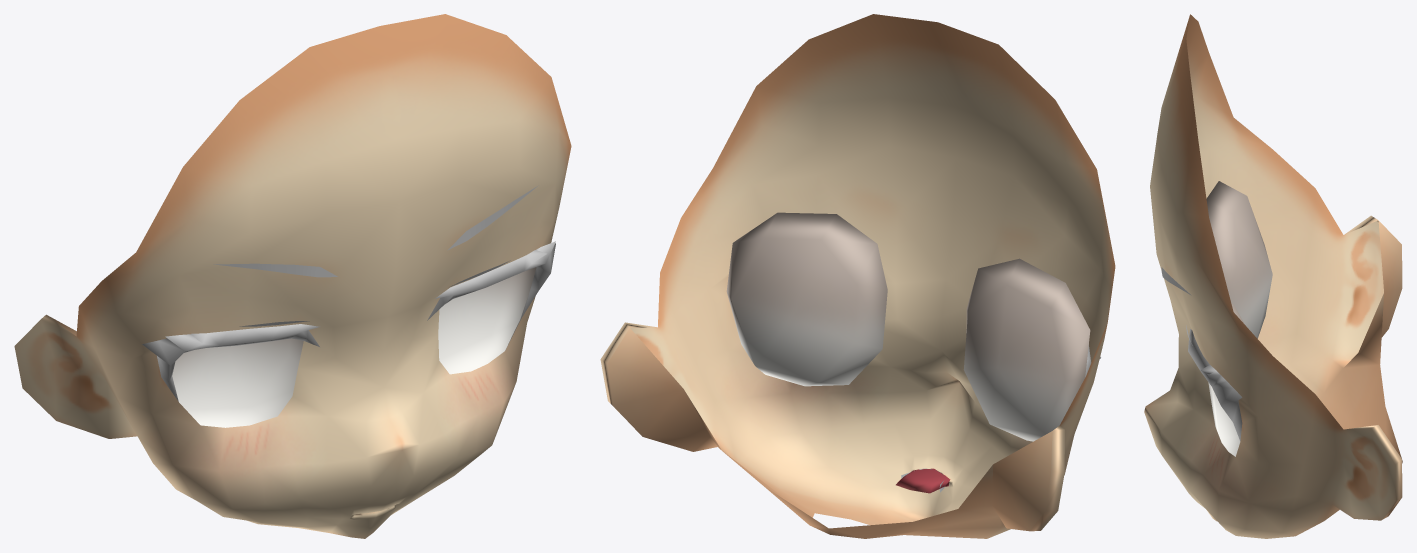
The picture shows the model from 3 angles, left to right: view 1: azimuth 30°, elevation 25°; view 2: azimuth 150°, elevation 25°; view 3: azimuth 270°, elevation 25°; orthographic projection. The views are drawn at different scales.
Parts seen in each view (by area): view 1: Face_01; view 2: Face_01; view 3: Face_01.
Part boxes in pixels (x1=…): Face_01: x1=14, y1=14, x2=571, y2=538; Face_01: x1=600, y1=14, x2=1115, y2=538; Face_01: x1=1144, y1=14, x2=1402, y2=538.
Size of the model in its own units: 28.07 by 28.11 by 13.66.
